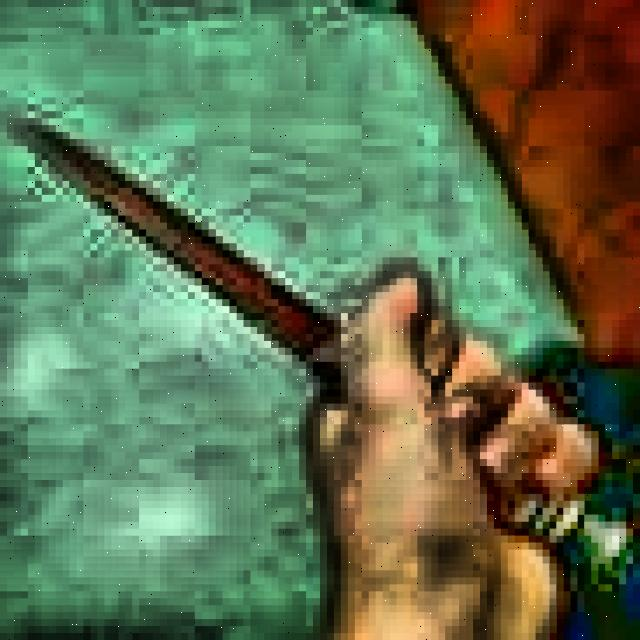knife: (8, 119, 639, 596)
